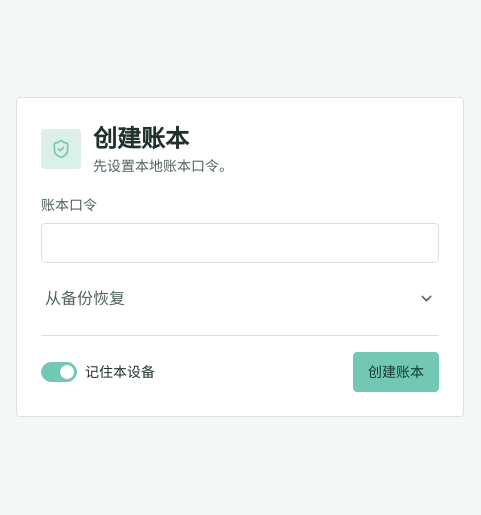
Test: VaultGate › reveals recovery options only while creating a vault
Click the button "从备份恢复": [85, 298] box [41,279,439,319]
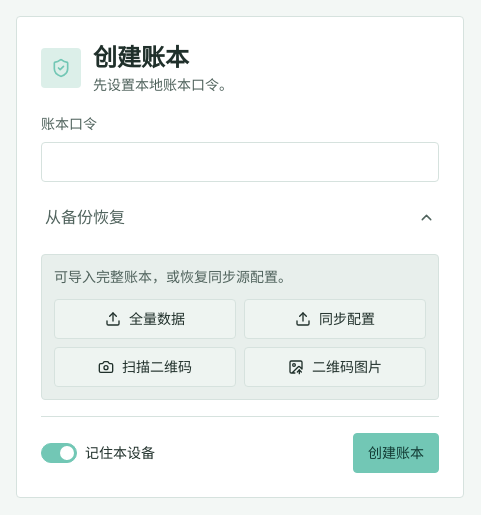
expect the button with aria-label "导入全量数据文件" is shown: met, box [54,299,236,339]
expect the button with aria-label "导入同步源配置" is shown: met, box [244,299,426,339]
